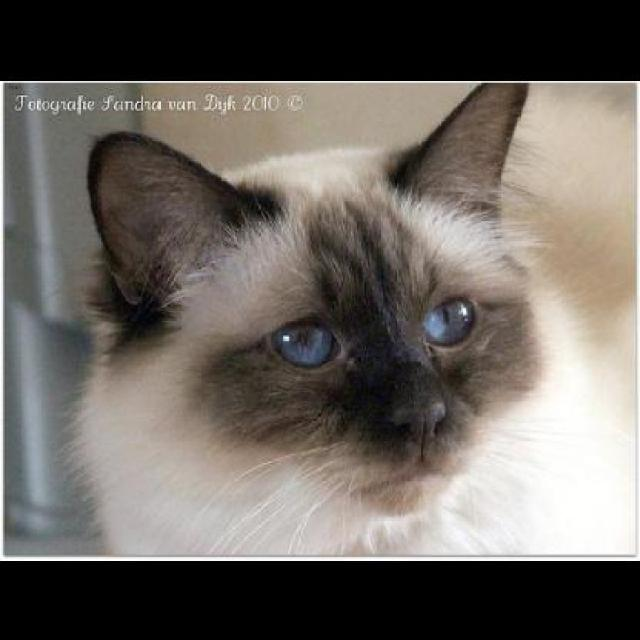unauthorized: (62, 81, 632, 557)
